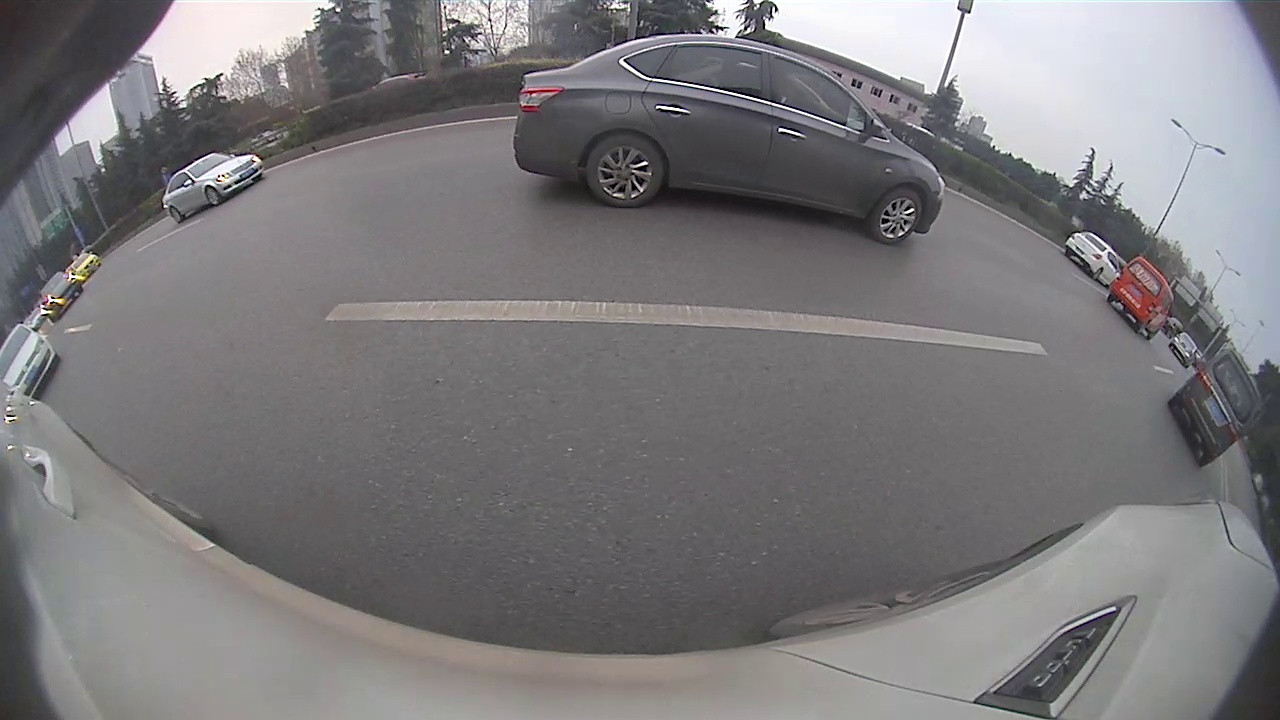car: (511, 33, 945, 248), (1169, 348, 1261, 466), (159, 154, 265, 224), (1108, 258, 1173, 340), (2, 322, 57, 403), (1064, 231, 1121, 288)
front: (869, 190, 925, 247), (204, 184, 222, 208)
rear: (583, 131, 665, 211), (169, 206, 186, 223)
